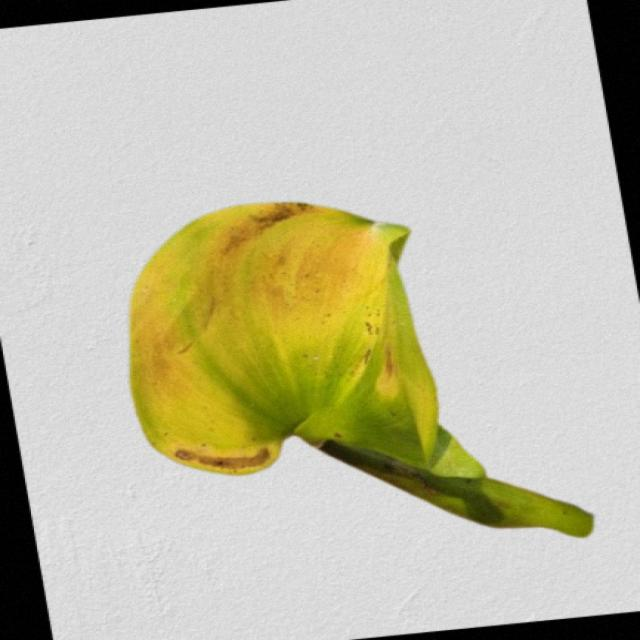daun berpenyakit kuning: (132, 202, 593, 536)
